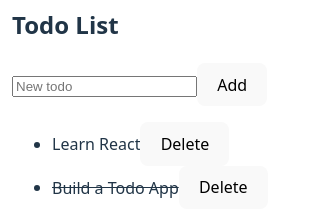
Test: deletes a todo item
Click the first delete button
Step 1. Click the button with test id "delete-button" next to "Learn React" → [185, 144], box [140,122,230,166]
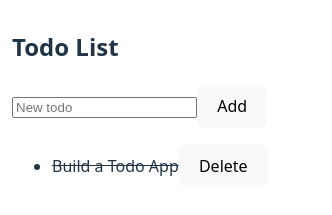
Now the list item "Learn React" is gone
